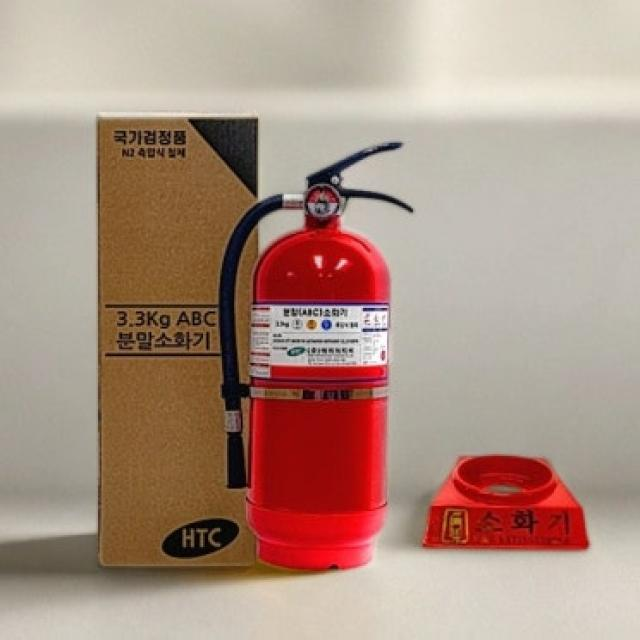pressure gauge: (303, 184, 339, 218)
